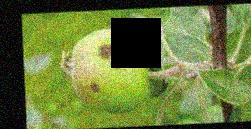rotten apple: (69, 26, 156, 112)
